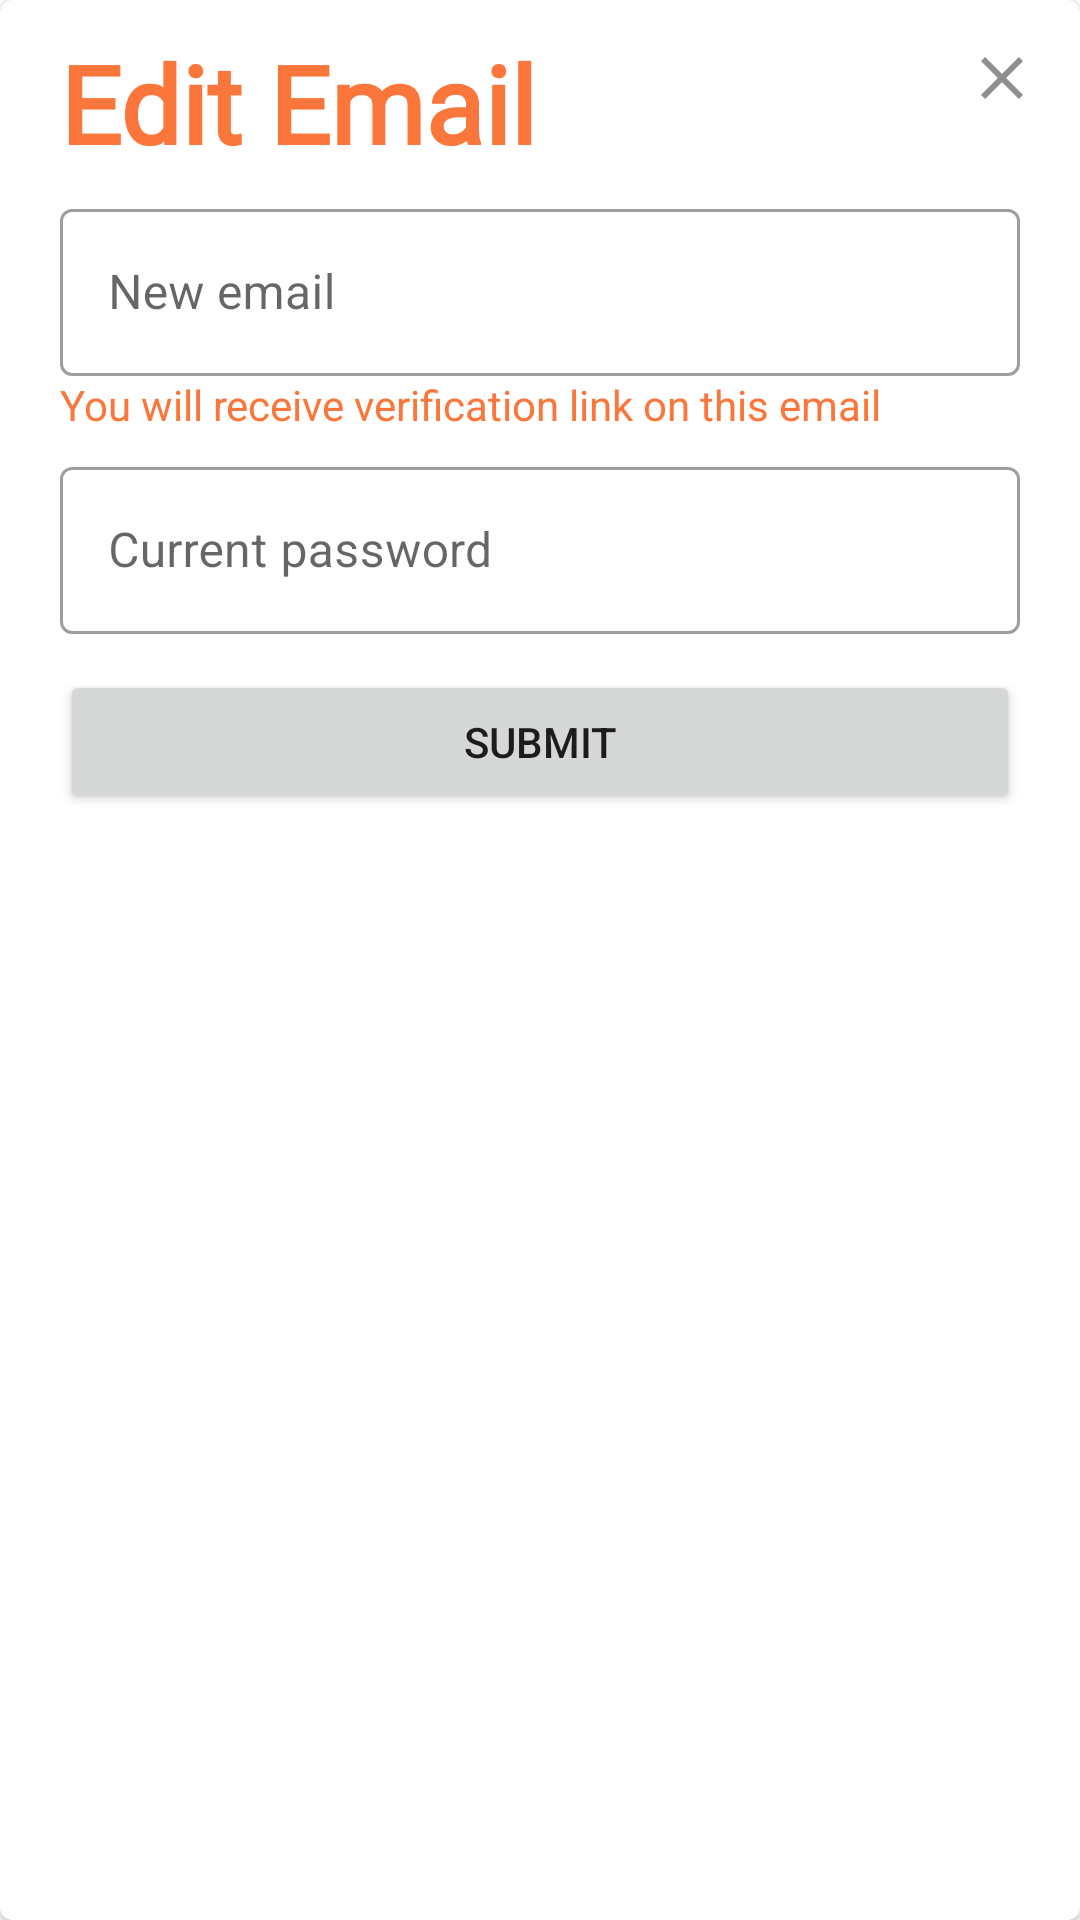

Point at icon controls on the screen. Image size 1080px×1920px, points as point (x, y).
close: point (1002, 78)
